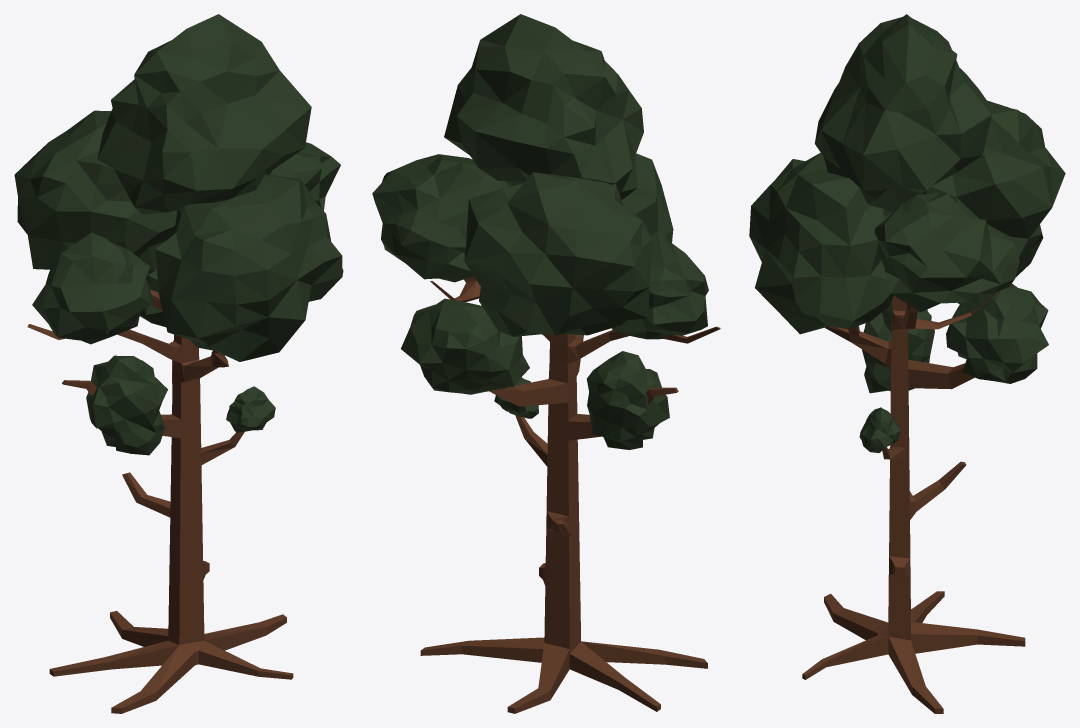
Rendered from Mänty.fbx.
3 views of the same model, side by side, from view 1: azimuth 30°, elevation 25°; view 2: azimuth 150°, elevation 25°; view 3: azimuth 270°, elevation 25° (orthographic).
Parts seen in each view (by area): view 1: Cube; view 2: Cube; view 3: Cube.
Part boxes in pixels (<box>): Cube: <box>14,14,343,713</box>; Cube: <box>372,14,720,713</box>; Cube: <box>749,14,1065,713</box>.
Size of the model in its own units: 1124 by 2128 by 940.
